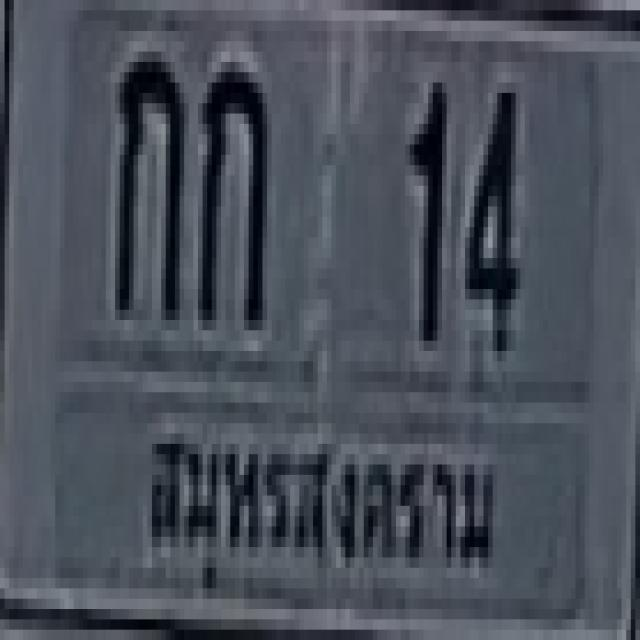1: (405, 72, 442, 330)
4: (463, 77, 513, 346)
A01: (110, 46, 180, 304), (196, 62, 264, 320)
SKM: (138, 399, 503, 584)
